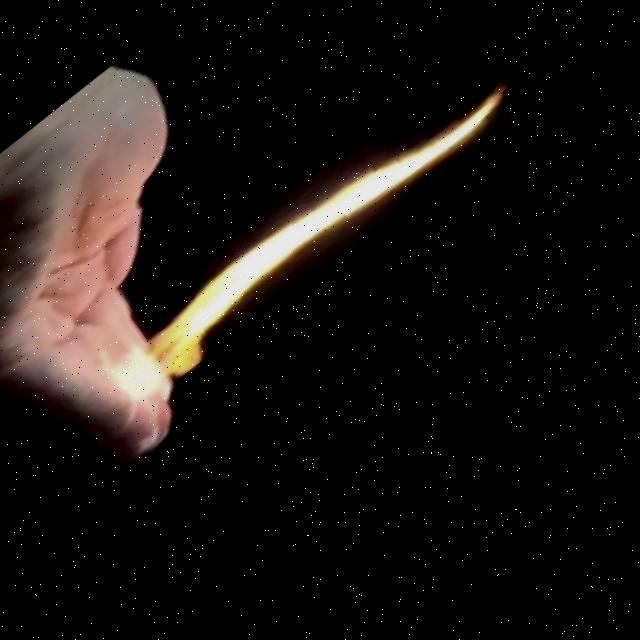Fire: (92, 48, 534, 424)
